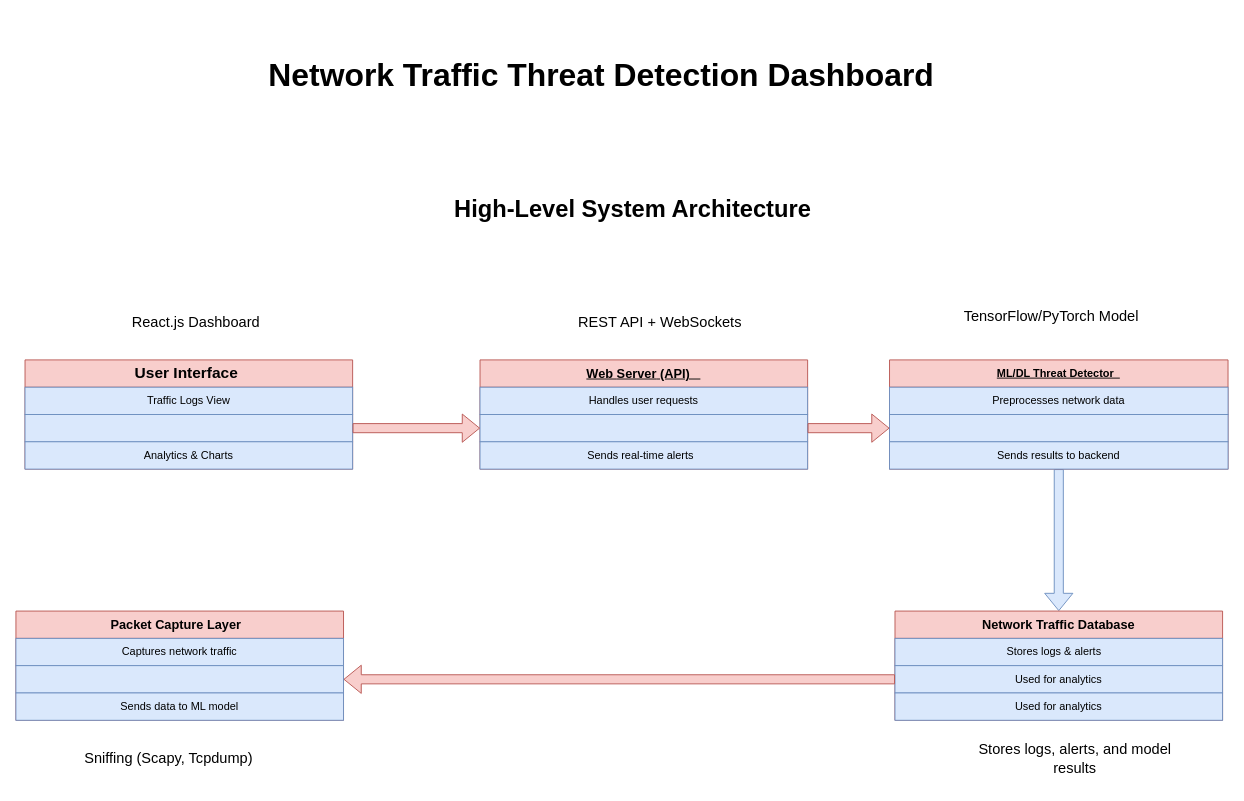
Image size: 1244x801. Some labels were removed from this diagram. The shapes that lost their labels are listed below. From the top down, each one's centre as x and y in pixels, then its label:
At (x=188, y=428): "Real - time Alerts".
At (x=643, y=428): "Fetches traffic logs".
At (x=1058, y=428): "Predicts suspicious traffic".
At (x=179, y=679): "Extracts features".
